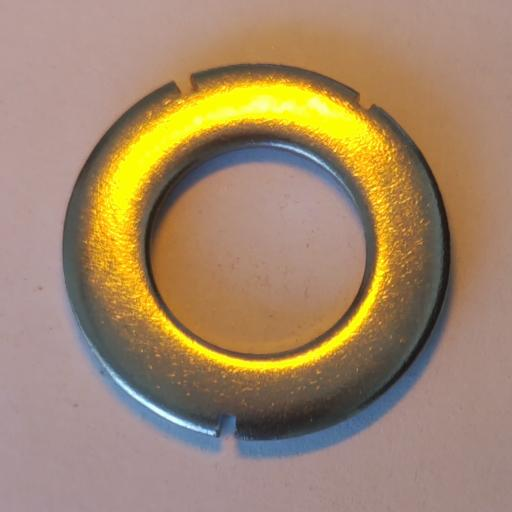burr: (212, 408, 240, 439), (173, 70, 201, 100), (351, 90, 376, 116)
